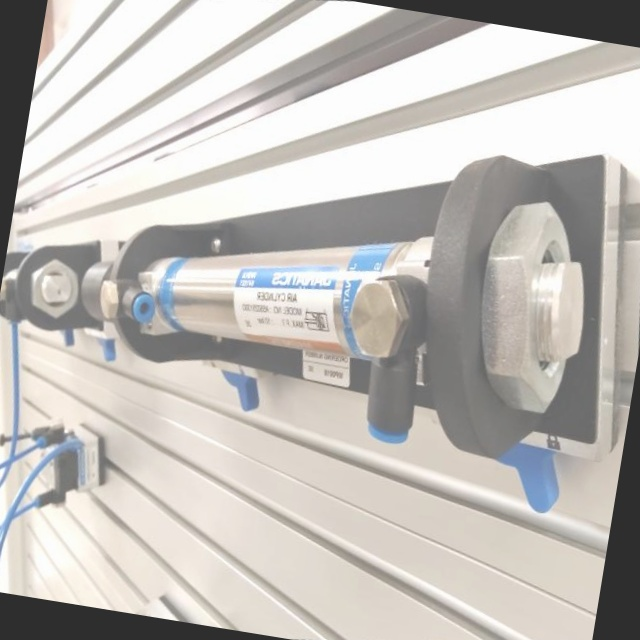double acting pneumatic cylinder: (20, 33, 640, 594)
